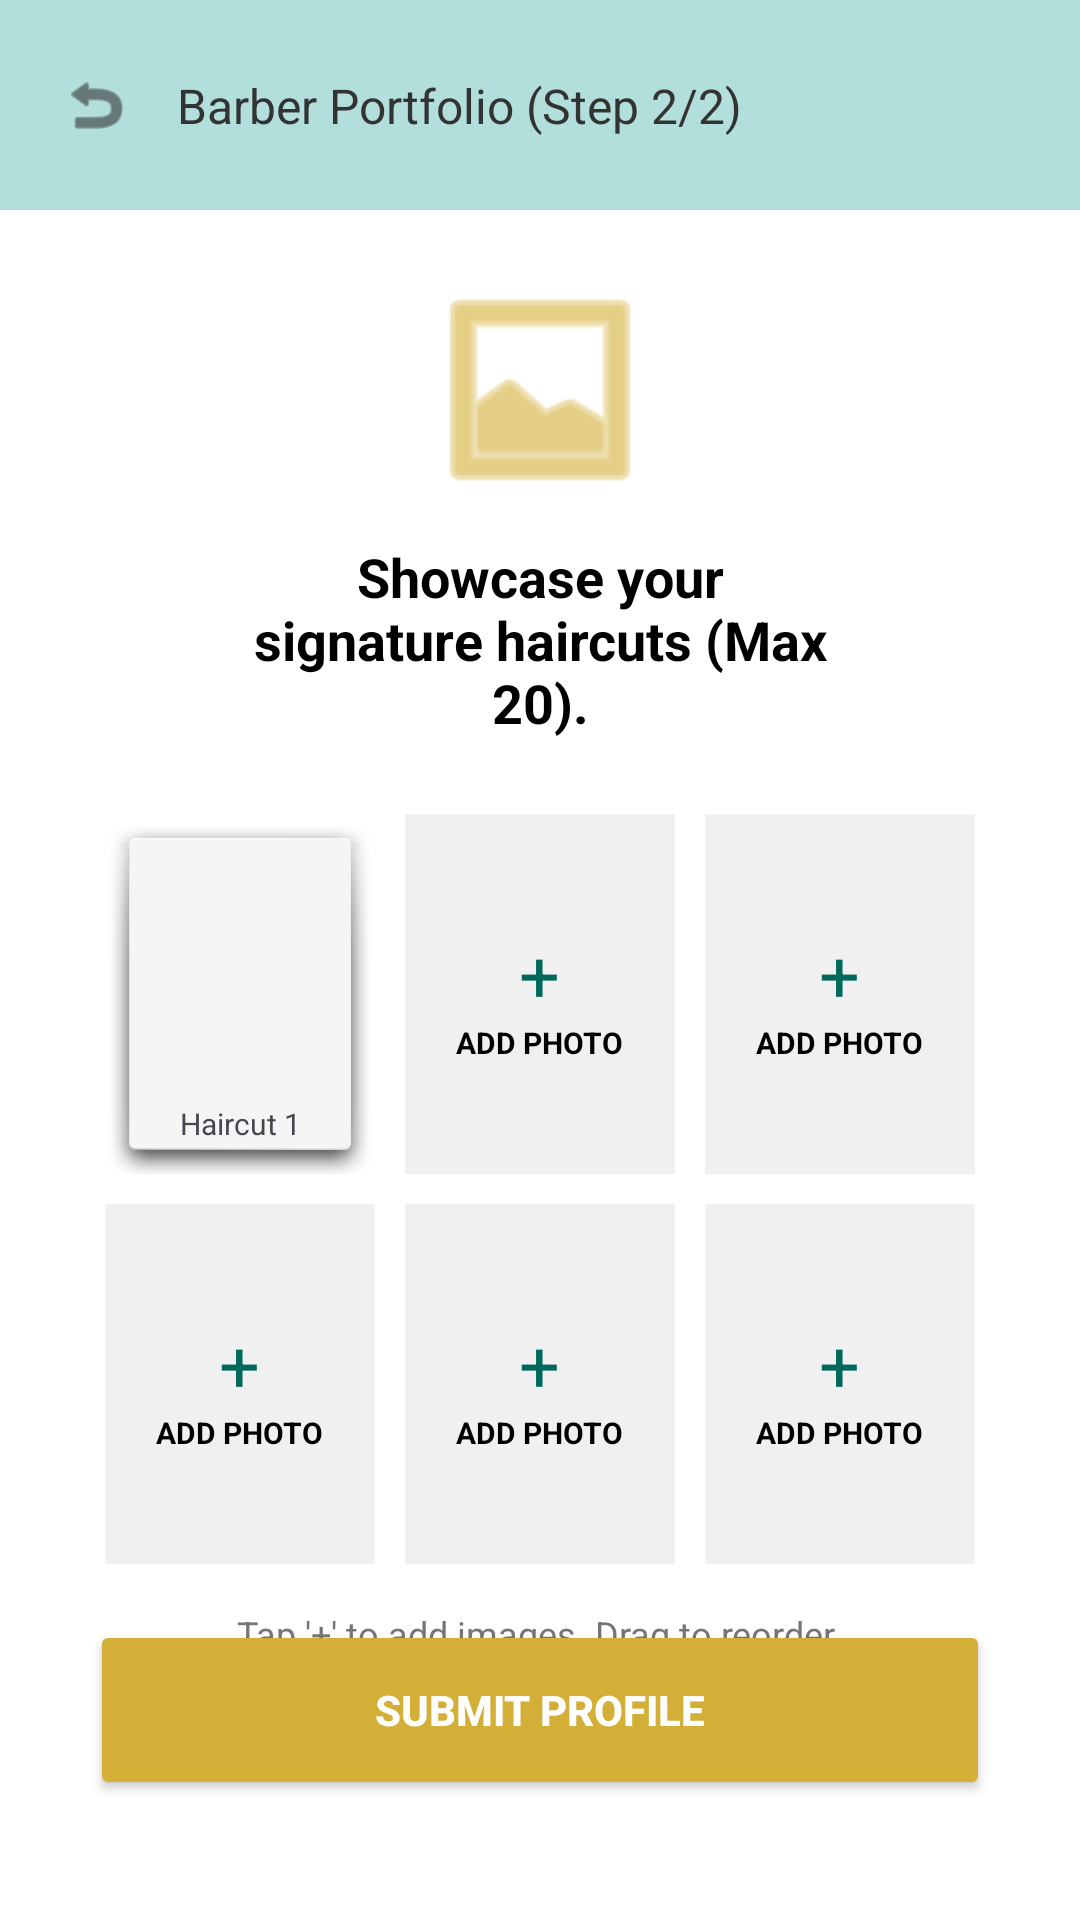

Where icons sit on this 1080 x 1920 app screen, as (x1, y1, x2, y2):
gallery: (450, 299, 630, 481)
revert: (71, 82, 123, 129)
